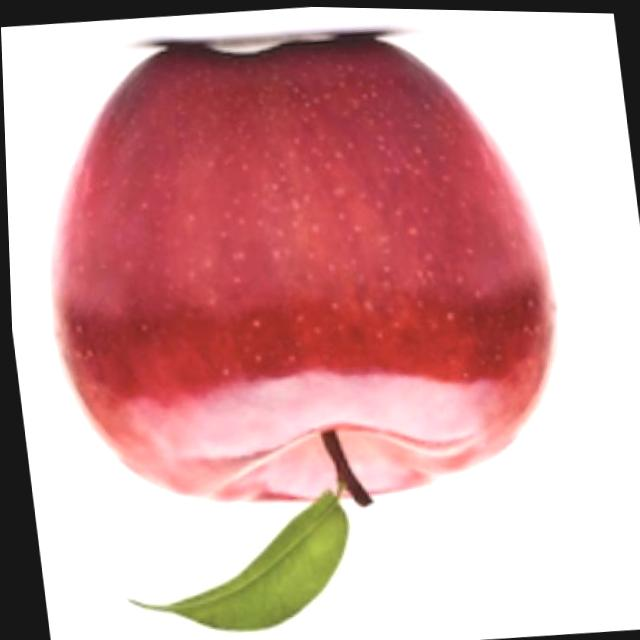Apple: (16, 10, 577, 534)
